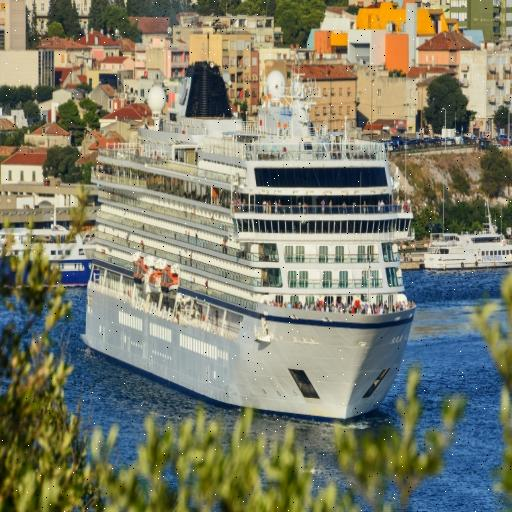cruises: (80, 59, 421, 429)
